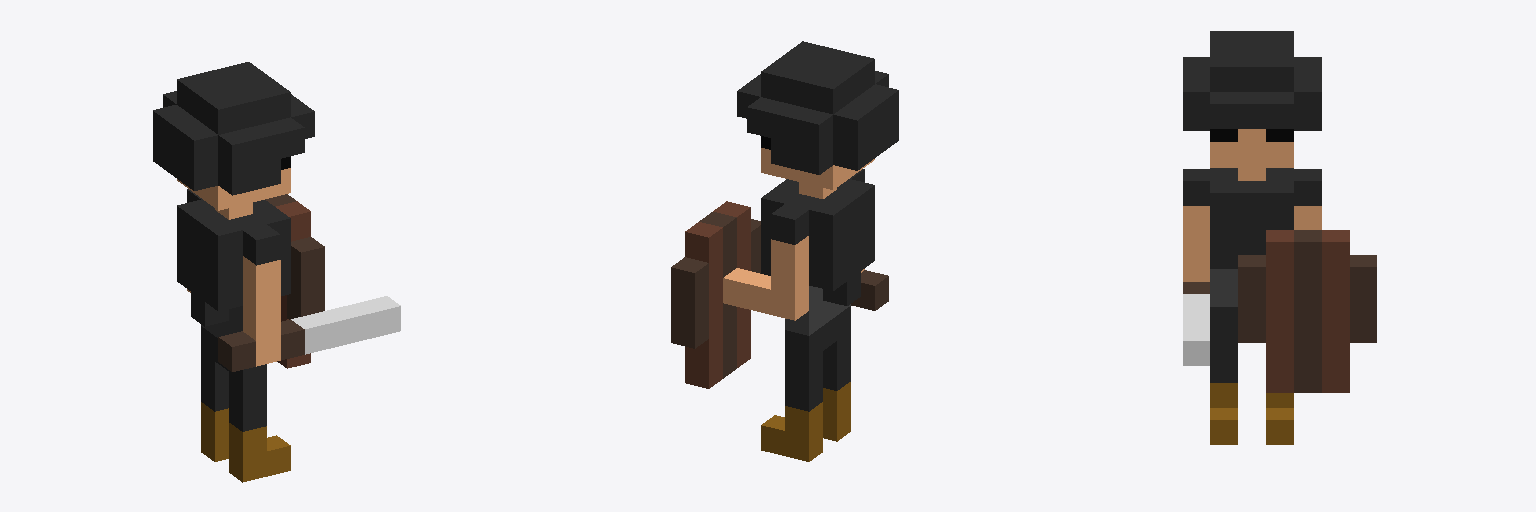
3 renders of one model, left to right at view 1: azimuth 30°, elevation 25°; view 2: azimuth 150°, elevation 25°; view 3: azimuth 270°, elevation 25°, orthographic.
Parts seen in each view (by area): view 1: object 1; view 2: object 1; view 3: object 1.
Part boxes in pixels (x1,y1,x2,y2): object 1: (153,62,400,482); object 1: (671,41,898,461); object 1: (1183,31,1376,444).
Size of the model in its own units: 0.8 by 1.5 by 0.7.
Materials: 1 (1 with a texture image).